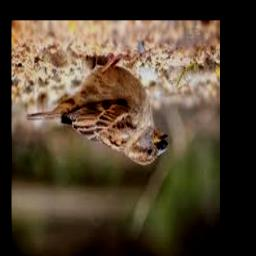Sparrow: (26, 54, 168, 166)
